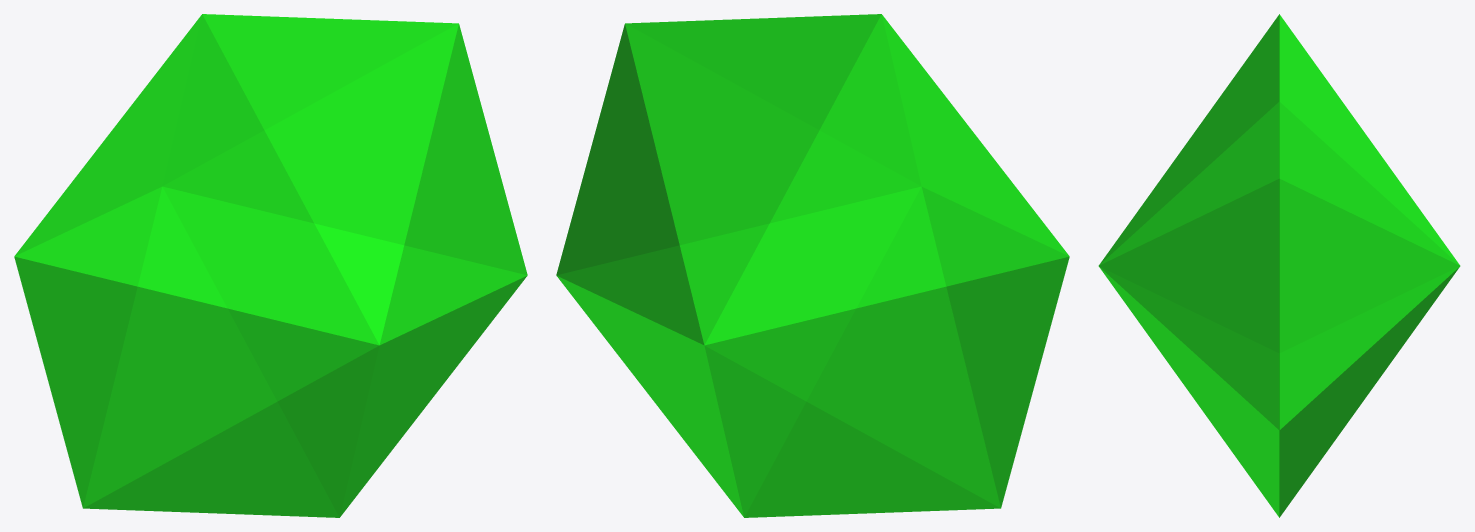
The picture shows the model from 3 angles, left to right: view 1: azimuth 30°, elevation 25°; view 2: azimuth 150°, elevation 25°; view 3: azimuth 270°, elevation 25°; orthographic projection. The views are drawn at different scales.
Parts seen in each view (by area): view 1: root; view 2: root; view 3: root.
Boxes of the visible parts, left/top/right/bottom form: root: left=14, top=14, right=527, bottom=517; root: left=556, top=14, right=1069, bottom=517; root: left=1098, top=14, right=1460, bottom=517.
Size of the model in its own units: 5.46 by 5.46 by 4.
